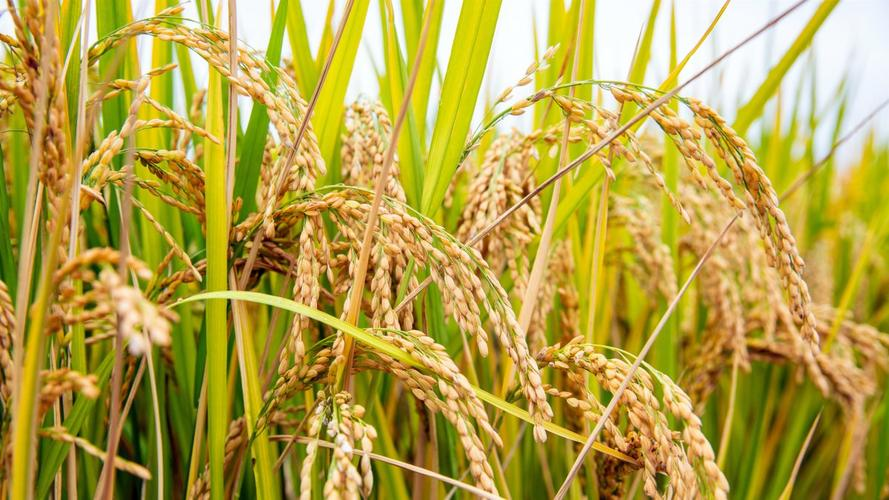rice: (549, 72, 834, 349), (219, 177, 497, 341), (261, 323, 500, 493), (90, 19, 335, 178), (507, 339, 728, 496)
